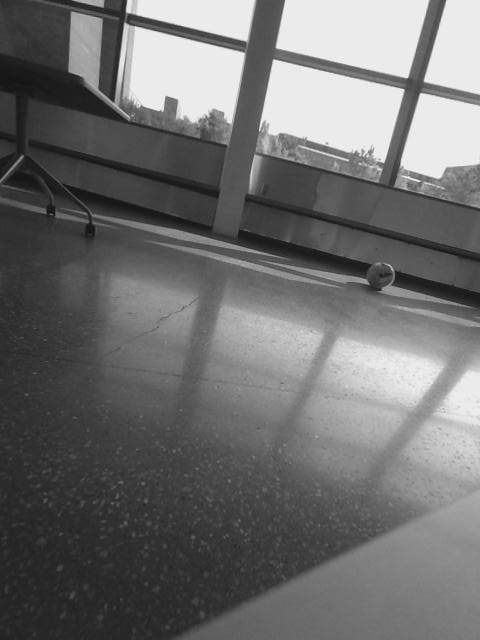ball: (363, 260, 395, 292)
